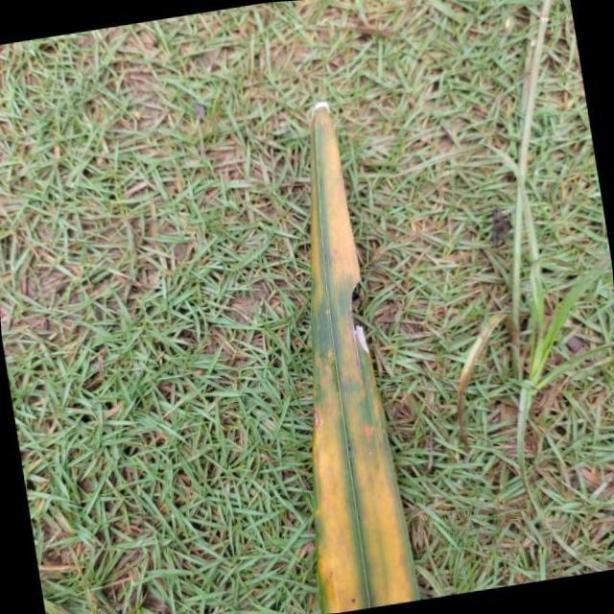Megnesium: (307, 89, 425, 614)
